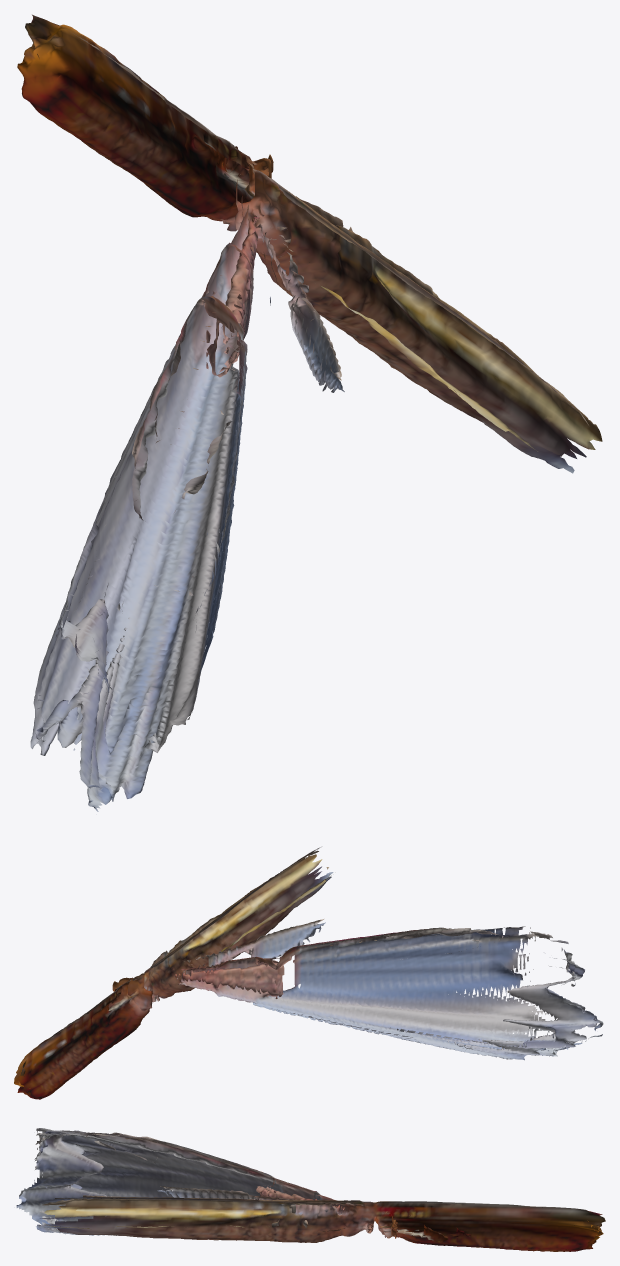
Rendered from pageworld-hogwarts-express-platform-v20260502230635-c86f7f65-collider.glb.
The picture shows the model from 3 angles, top to bottom: view 1: azimuth 30°, elevation 25°; view 2: azimuth 150°, elevation 25°; view 3: azimuth 270°, elevation 25°; orthographic projection. The views are drawn at different scales.
Parts seen in each view (by area): view 1: world; view 2: world; view 3: world.
Part boxes in pixels (x1,y1,x2,y2): world: (17, 14, 602, 811); world: (14, 847, 603, 1099); world: (16, 1128, 605, 1251).
Size of the model in its own units: 50.32 by 23.05 by 88.08.
